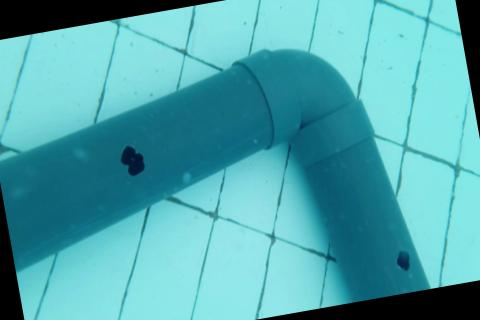kebocoran: (116, 141, 148, 179), (394, 246, 413, 272)
